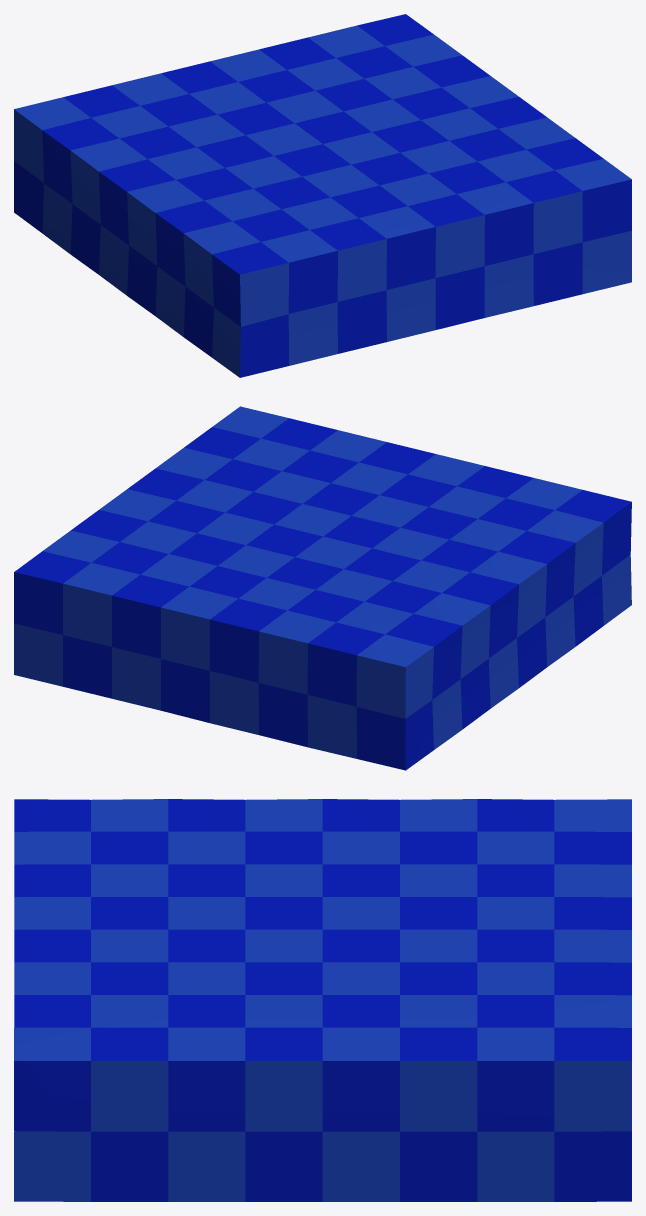
The model's file is teentoilet tile_small.fbx.
3 renders of one model, top to bottom at view 1: azimuth 30°, elevation 25°; view 2: azimuth 150°, elevation 25°; view 3: azimuth 270°, elevation 25°, orthographic. The views are drawn at different scales.
Parts seen in each view (by area): view 1: Object002; view 2: Object002; view 3: Object002.
Part boxes in pixels (x1=…): Object002: x1=14, y1=14, x2=631, y2=377; Object002: x1=14, y1=406, x2=631, y2=770; Object002: x1=14, y1=799, x2=631, y2=1201.
Bounding box in the file's own units: 31.53 × 8.01 × 31.49.
